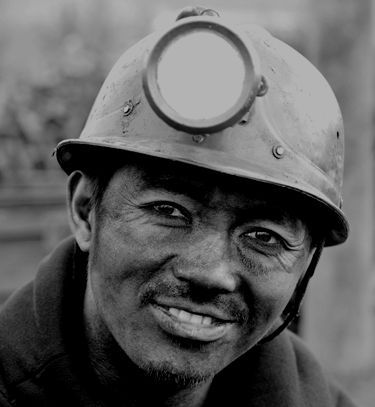helmet: (66, 7, 352, 380)
